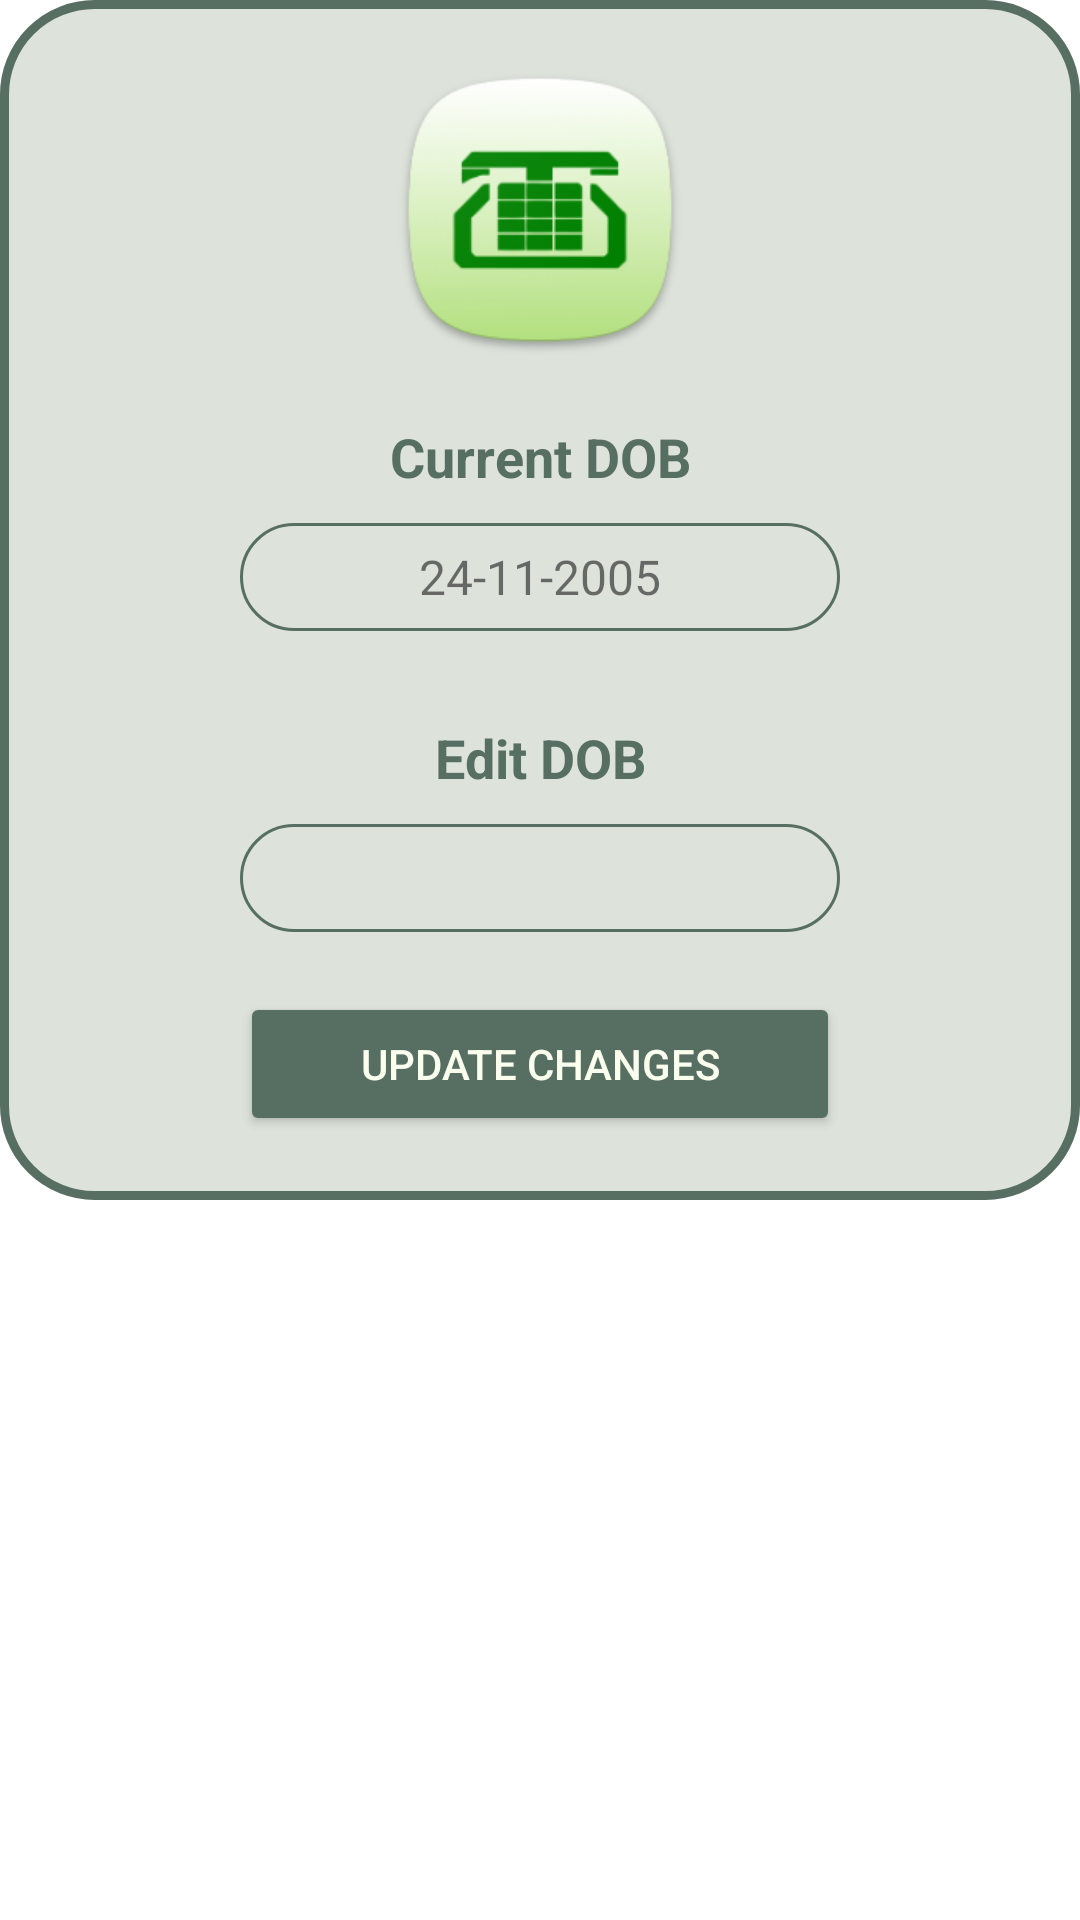

Locate icon controls on the screen. Image size 1080x1920, boxes as (x1, y1, x2, y2).
mainicon: (407, 79, 673, 347)
